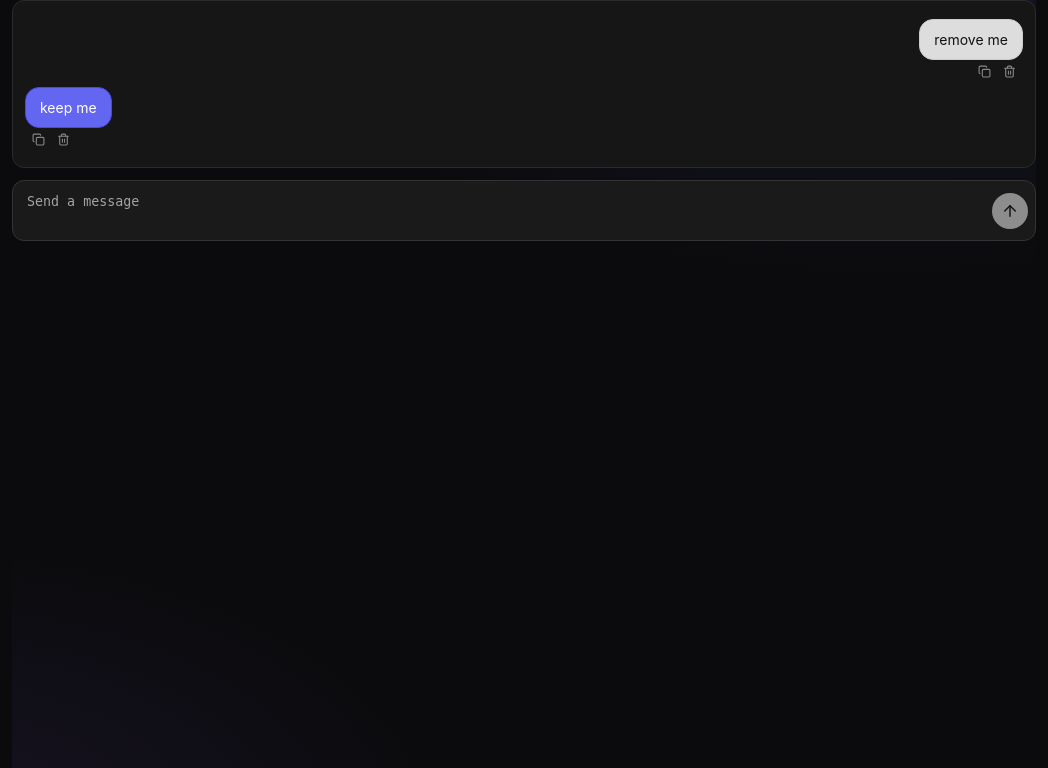
Chorus message actions › handleDelete removes the message from the list
What coordinates should you click on to do the following:
click the button titled "Delete" below "remove me"
I would click on:
 (1010, 72)
Its box is [998,62,1021,81].
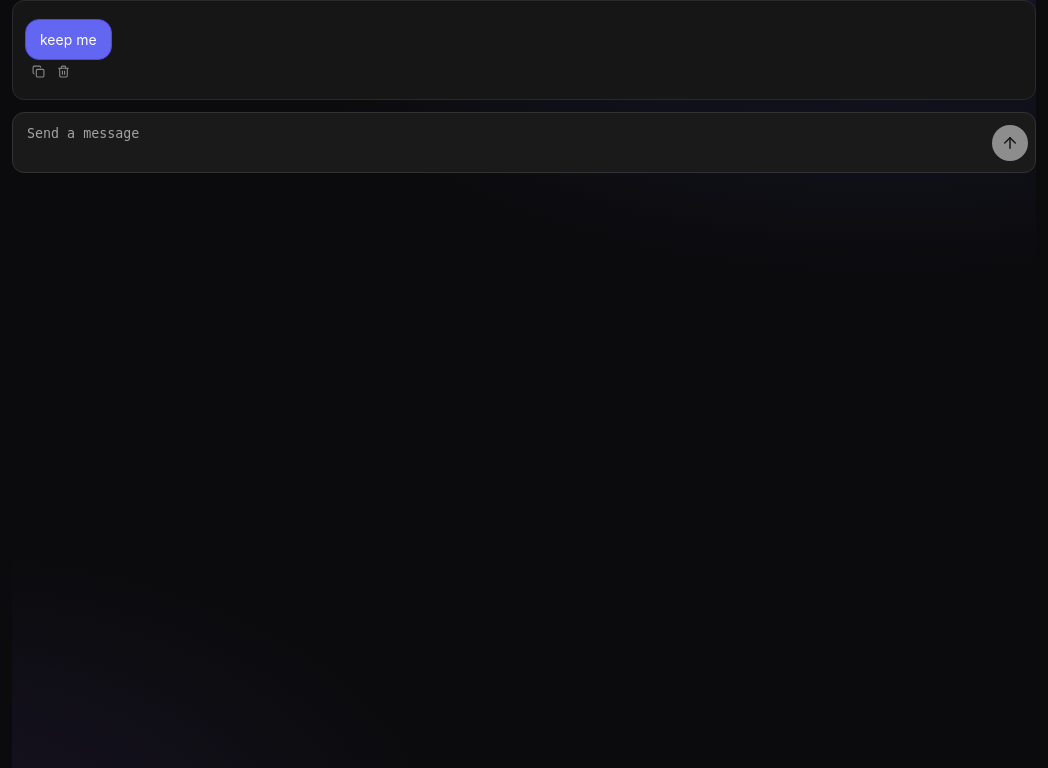
Check: the text "keep me" is shown, box [40,29,97,50]
Check: the text "remove me" is gone
